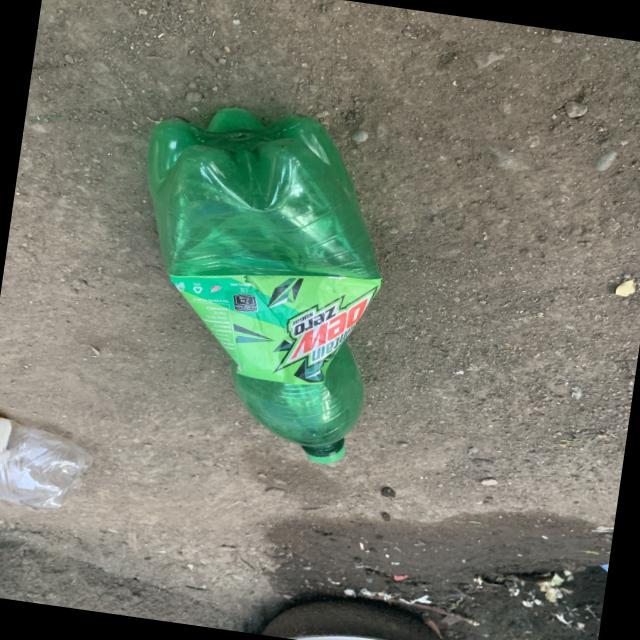Bottle: (148, 109, 382, 464)
